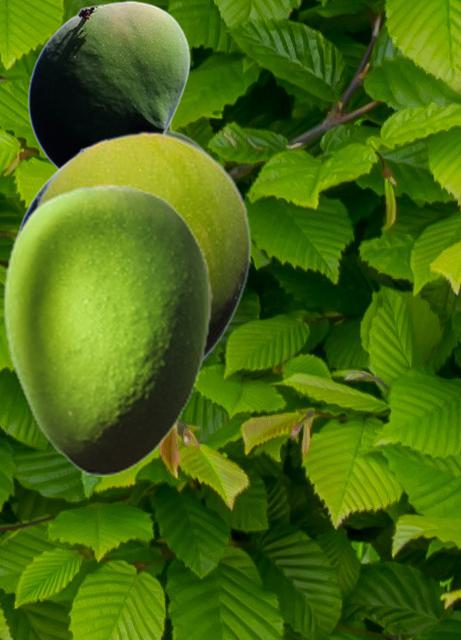green_mango: (2, 183, 211, 475), (34, 131, 251, 361), (27, 0, 190, 169)
